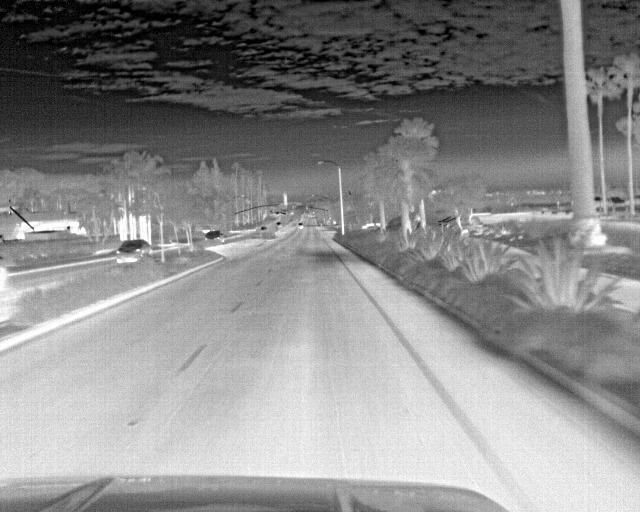car: (112, 237, 152, 265), (203, 228, 225, 245)
